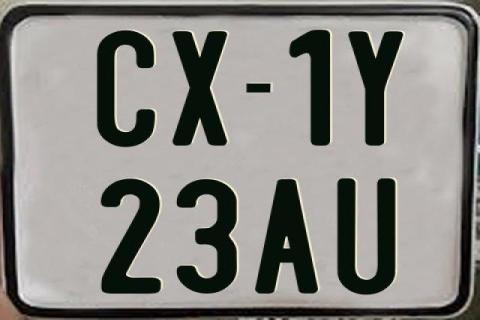0: (176, 177, 243, 296), (100, 178, 160, 296), (289, 28, 336, 146)
A: (254, 177, 320, 296)
C: (97, 28, 156, 150)
U: (337, 178, 398, 294)
X: (169, 29, 225, 147)
Y: (346, 30, 405, 144)
